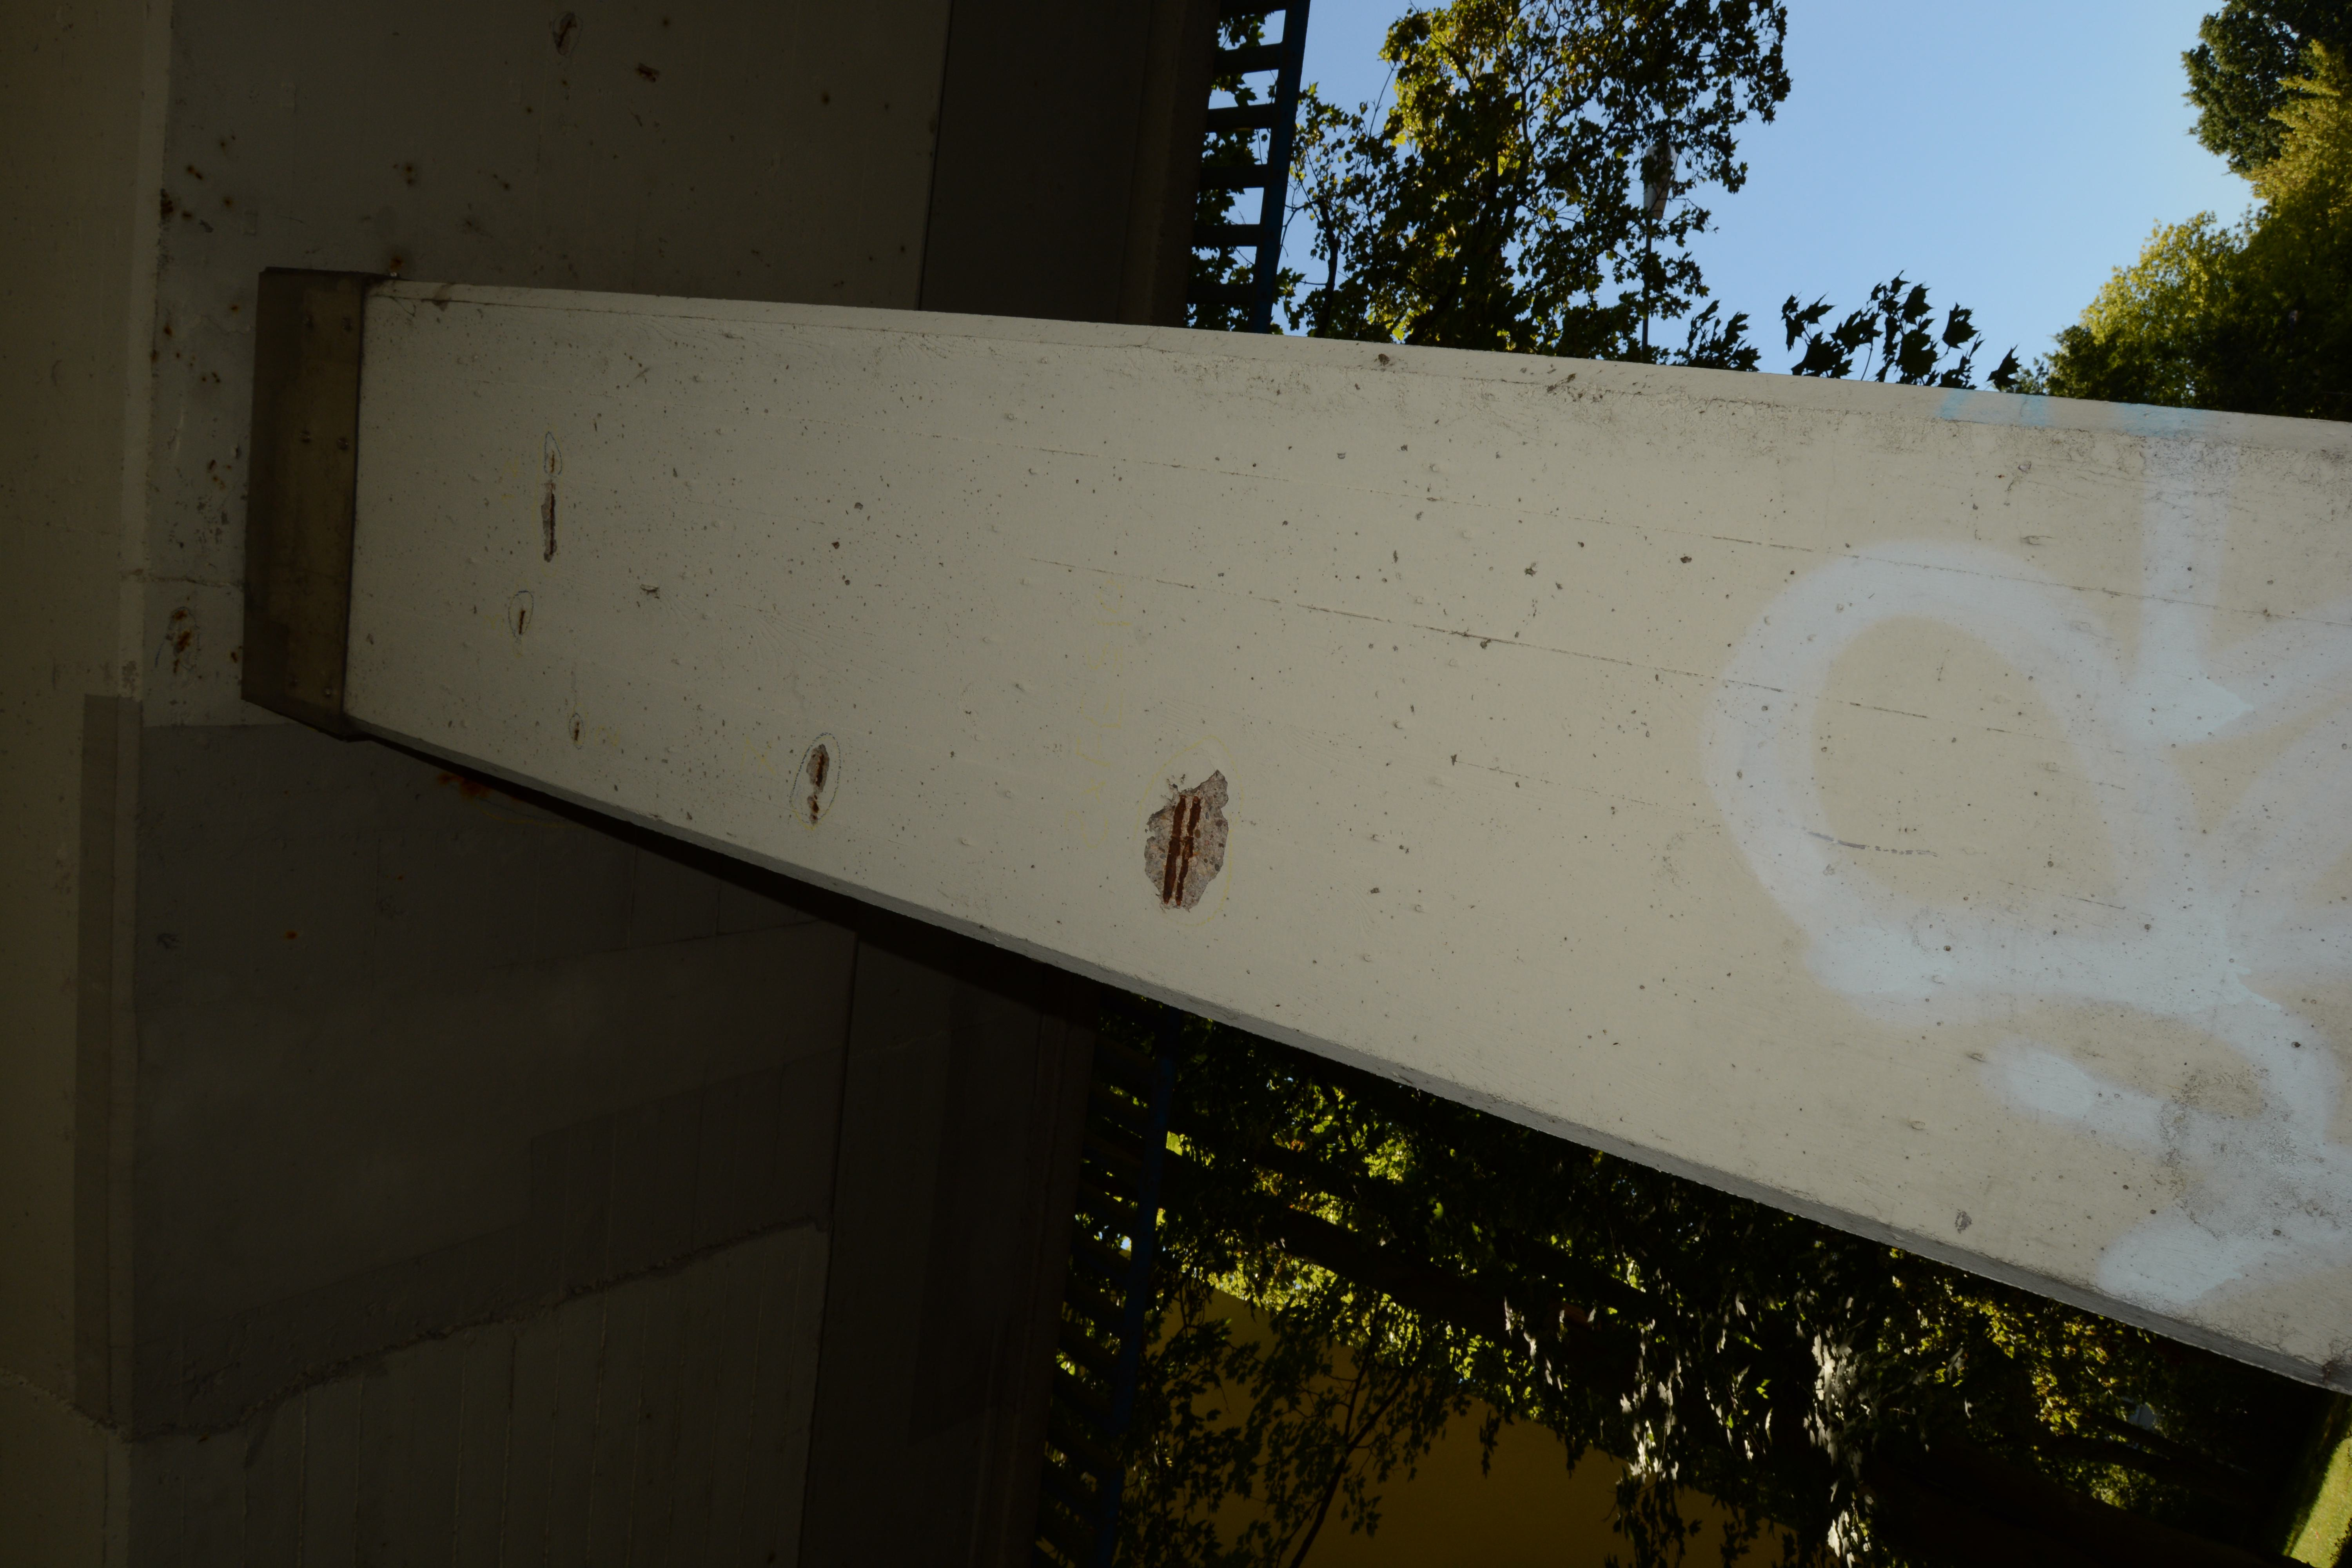Exposed reinforcement: (1174, 795, 1202, 905), (1162, 795, 1186, 905), (816, 754, 826, 786), (549, 494, 555, 555), (518, 611, 527, 635), (812, 795, 819, 821), (572, 723, 579, 742), (549, 450, 555, 474)
Spalling: (1145, 770, 1228, 912), (805, 742, 829, 824), (541, 490, 556, 563)
